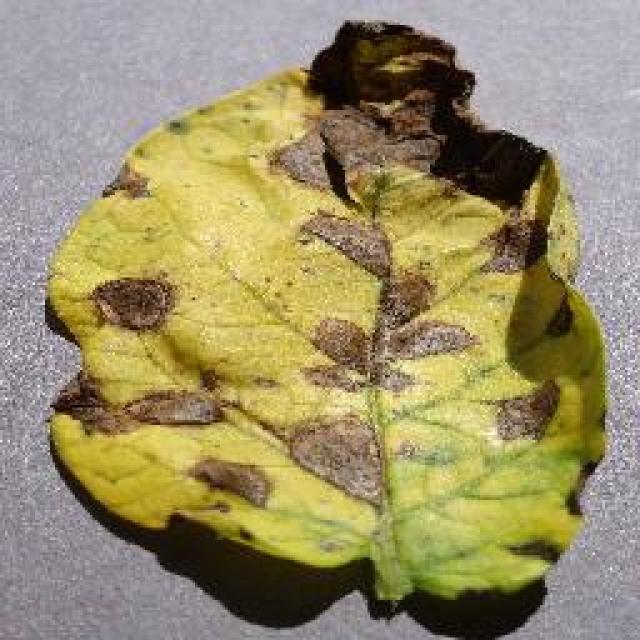Potato___Early_blight: (32, 2, 622, 638)
